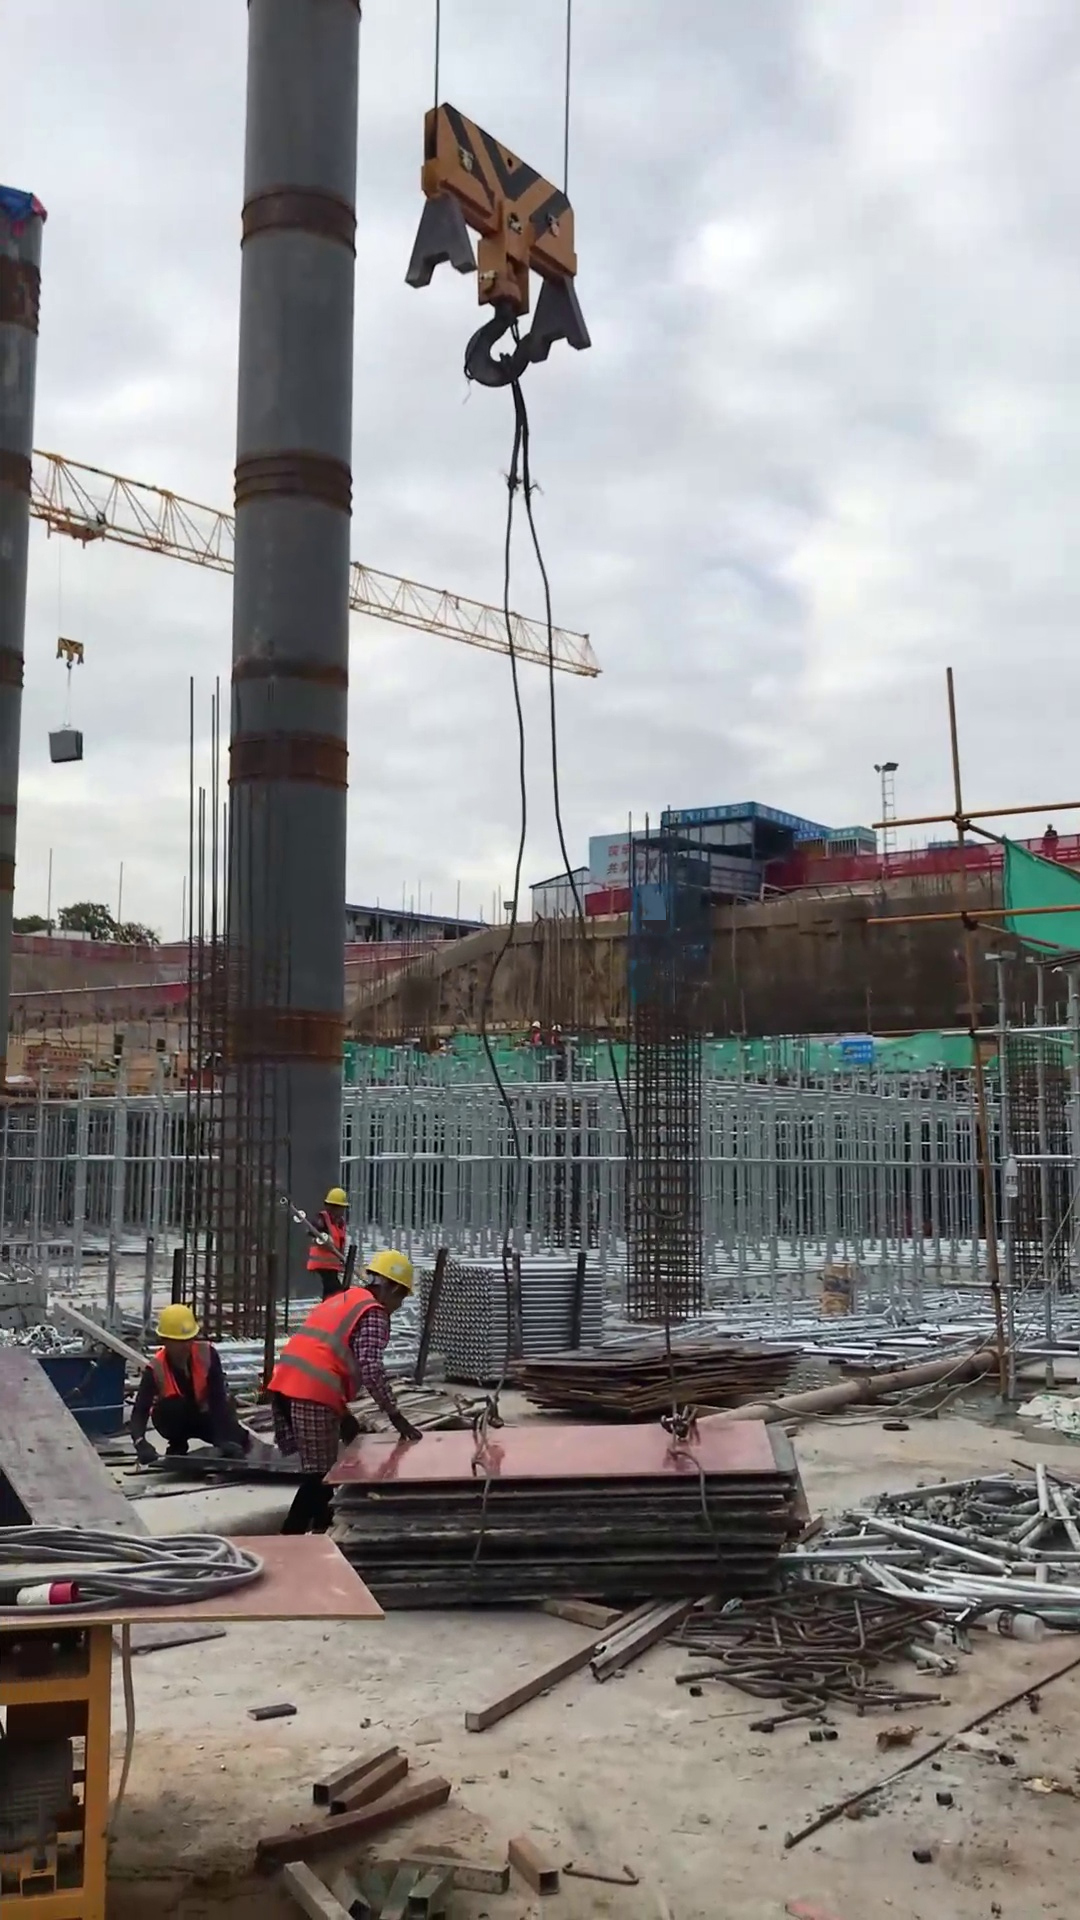board: (309, 1403, 821, 1627), (506, 1325, 821, 1429)
cutter: (1, 1525, 326, 1913)
fence: (792, 815, 1064, 901)
helmet: (360, 1244, 421, 1300), (149, 1306, 210, 1349), (321, 1182, 357, 1218)
hook: (399, 89, 602, 389), (47, 629, 90, 670)
person: (261, 1249, 440, 1542), (126, 1300, 255, 1471), (290, 1181, 362, 1299)
scaffold: (426, 1232, 616, 1391)
vest: (265, 1285, 382, 1413), (144, 1343, 224, 1413), (301, 1218, 357, 1279)
